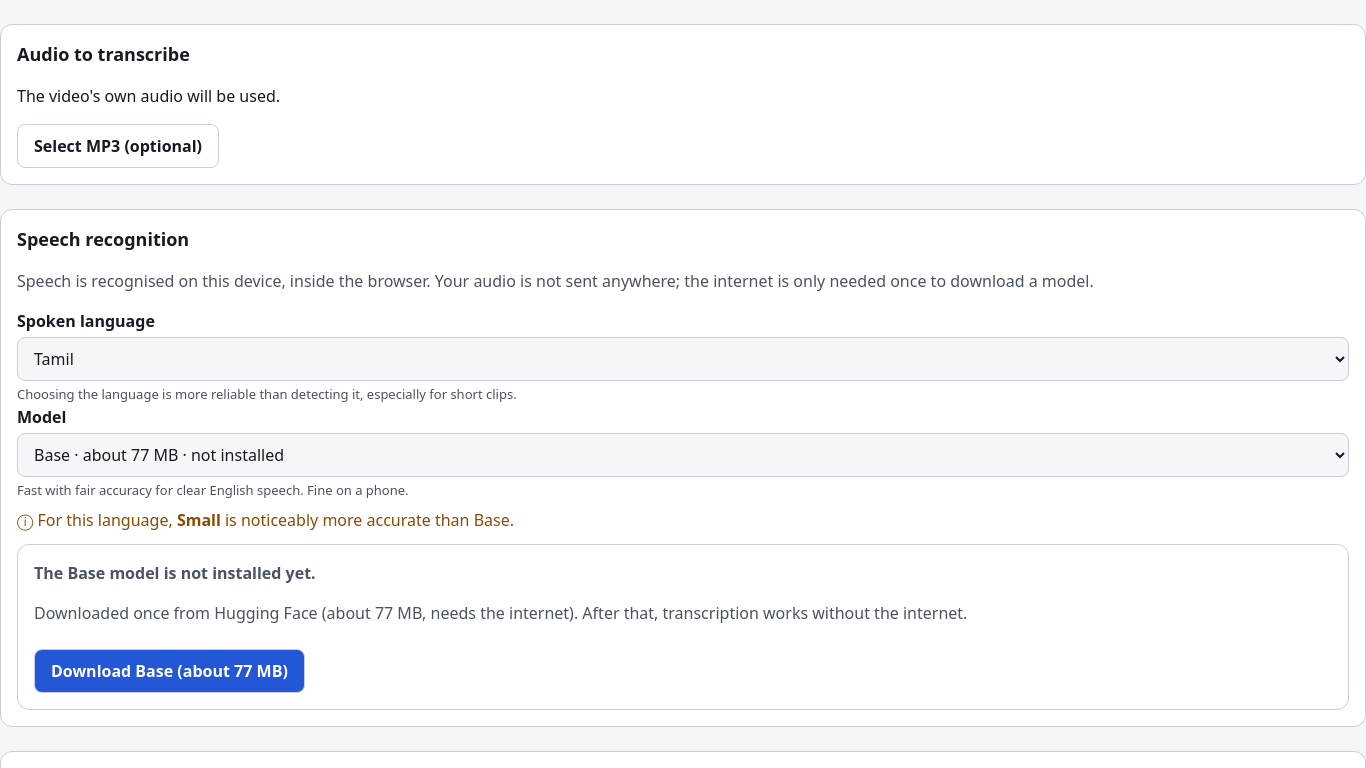
it: Speech workflow › explains a failed download and offers to try again
This screenshot has width=1366, height=768.
Click the button "Download Base (about 77 MB)" at (169, 671), box [34,649,305,693]
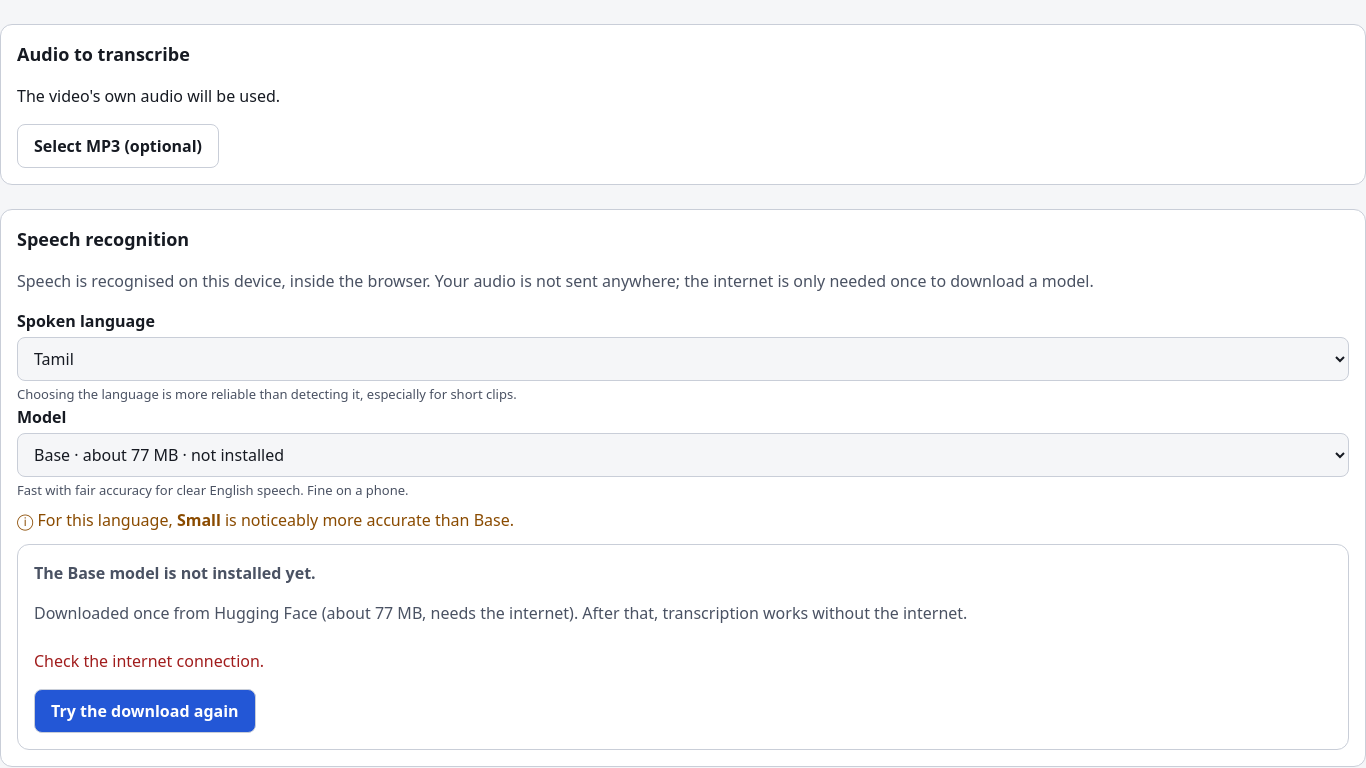
Check: the text "Check the internet connection." is shown, box [34,649,264,673]
Check: the button "Try the download again" is shown, box [34,689,256,733]
